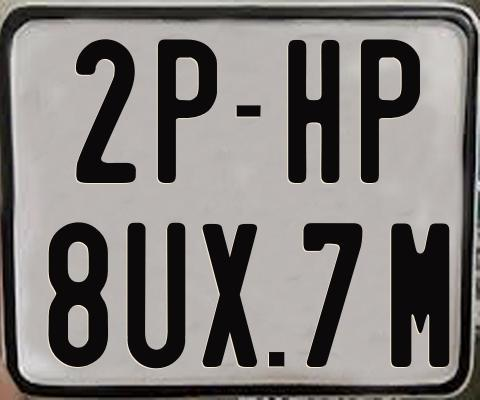2: (73, 36, 136, 183)
7: (300, 222, 360, 372)
8: (47, 221, 107, 369)
H: (288, 37, 344, 186)
M: (391, 222, 456, 367)
P: (155, 38, 220, 188), (360, 36, 423, 183)
U: (126, 222, 190, 373)
X: (199, 222, 259, 370)
